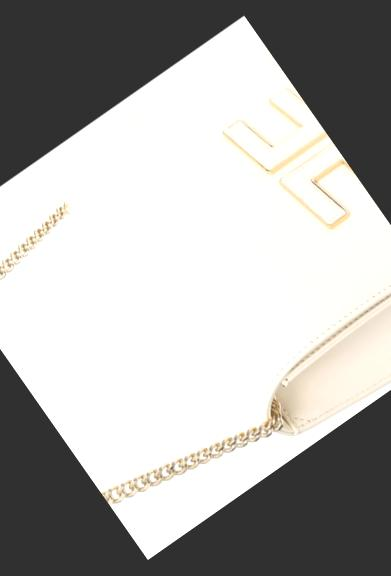ELISABETTA-FRANCHI: (201, 72, 376, 262)
